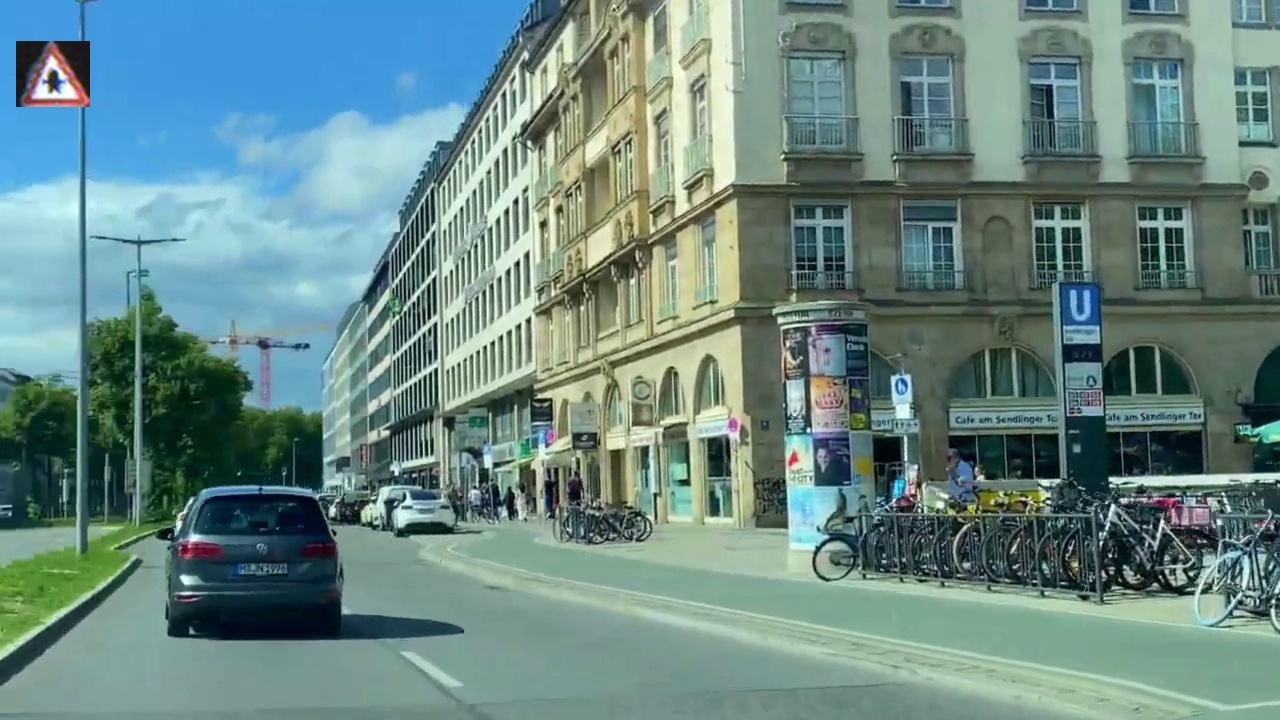Right-of-way: (16, 41, 90, 107)
